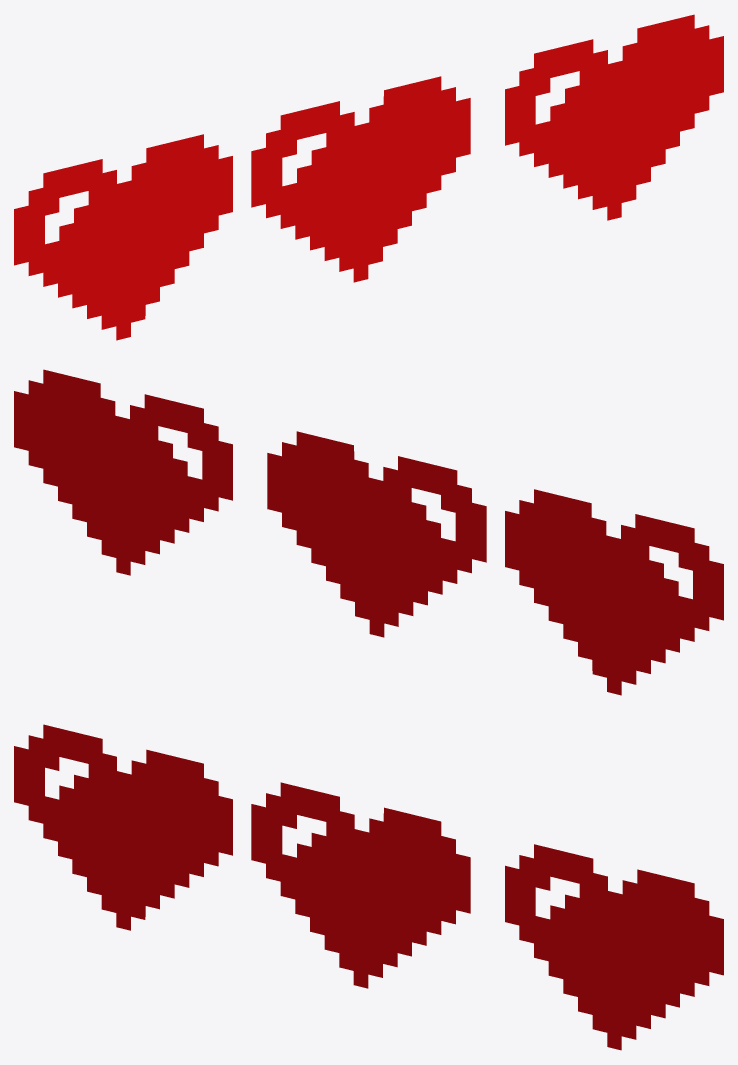
The model's file is 3Lives.fbx.
The picture shows the model from 3 angles, top to bottom: view 1: azimuth 30°, elevation 25°; view 2: azimuth 150°, elevation 25°; view 3: azimuth 330°, elevation 25°; orthographic projection.
Visible parts, largest first — view 1: path21.008; view 2: path21.008; view 3: path21.008.
Boxes of the visible parts, <box> form: path21.008: <box>14,14,723,340</box>; path21.008: <box>14,369,723,695</box>; path21.008: <box>14,724,723,1050</box>.
Bounding box in the file's own units: 30.82 × 7.67 × 1.25e-06.
